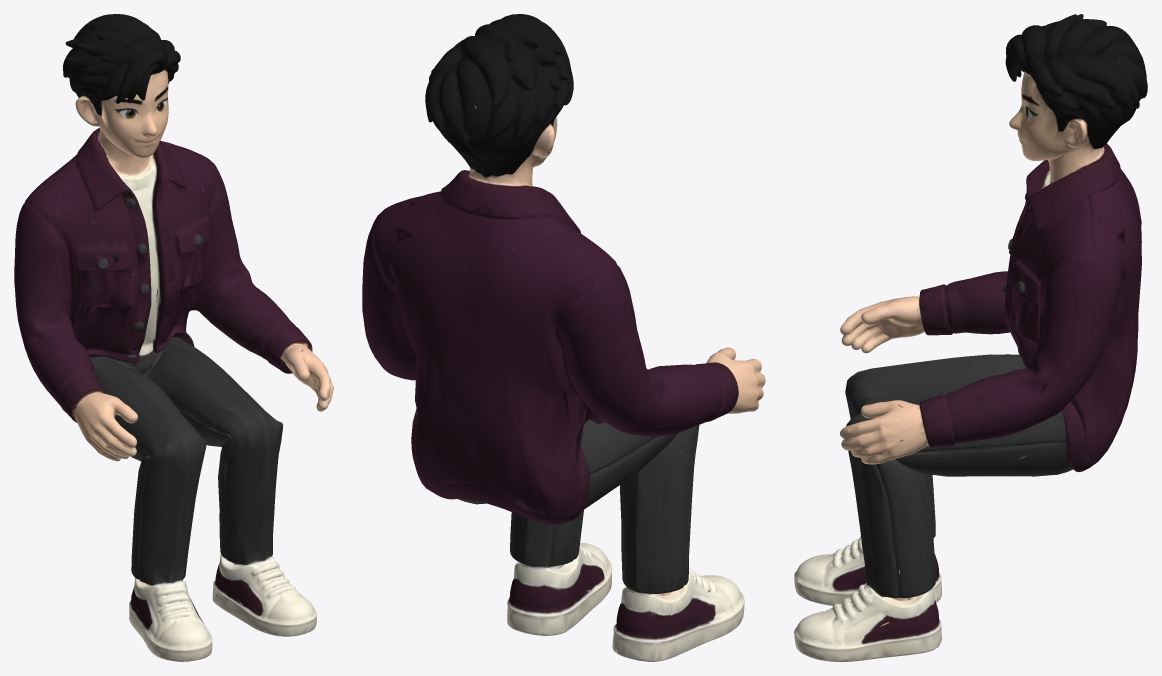
File: producer.glb
3 views of the same model, side by side, from view 1: azimuth 30°, elevation 25°; view 2: azimuth 150°, elevation 25°; view 3: azimuth 270°, elevation 25° (orthographic). The views are drawn at different scales.
Visible parts, largest first — view 1: producer-body; view 2: producer-body; view 3: producer-body.
Part boxes in pixels (left/top/right/bottom): producer-body: left=14, top=14, right=333, bottom=661; producer-body: left=362, top=14, right=765, bottom=661; producer-body: left=794, top=14, right=1147, bottom=661.
Size of the model in its own units: 0.6102 by 1.3 by 0.6941.
1 material, 1 textured.
